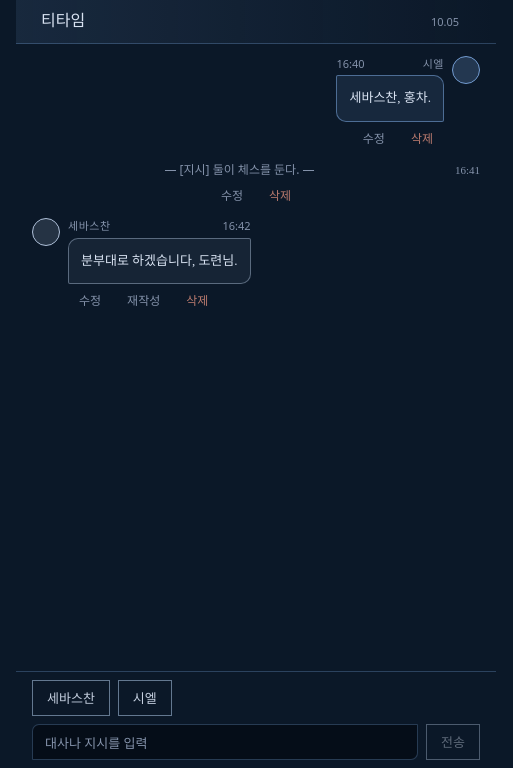
Test case: 재작성 실패 (R-CHAT-007 · R-CHAT-011) › TC-CH-084: TOKEN_INVALID → 읽기 전용 전환, 버튼 줄 전부 미렌더, 대상 표시(regenerating) 없음, 원 본문, 전환 토스트
Expected: the element named "대화 기록" is shown, [32,56,480,316]
Click the button with aria-label "대사 재작성": (144, 302) [116,288,171,316]
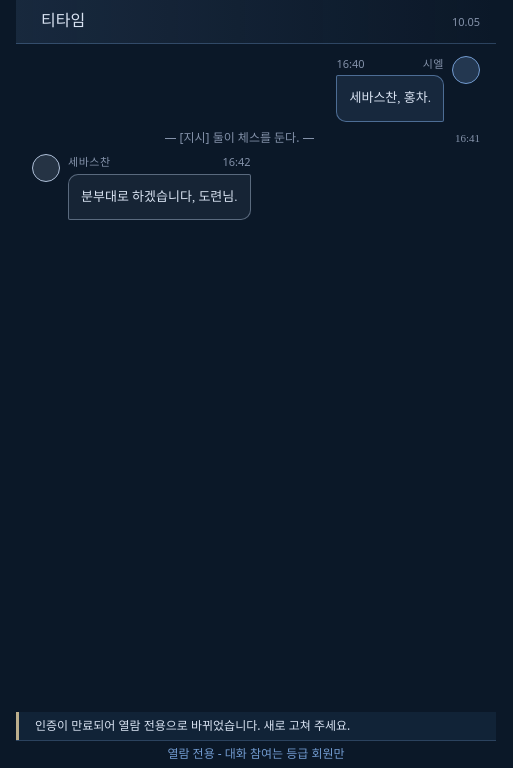
Expected: the text "분부대로 하겠습니다, 도련님." is shown, [68,174,250,220]
Expected: the text "열람 전용 - 대화 참여는 등급 회원만" is shown, [16,740,496,767]
